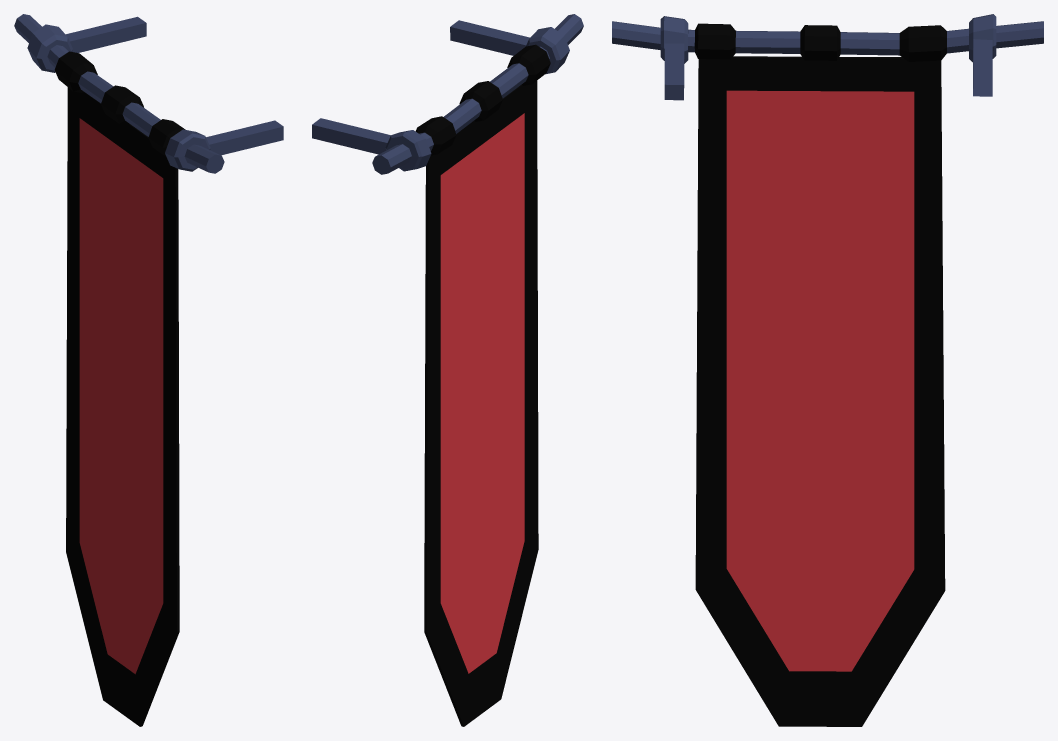
Rendered from Banner_Wall_01.fbx.
3 views of the same model, side by side, from view 1: azimuth 30°, elevation 25°; view 2: azimuth 150°, elevation 25°; view 3: azimuth 270°, elevation 25° (orthographic). The views are drawn at different scales.
Visible parts, largest first — view 1: Banner_Wall_01; view 2: Banner_Wall_01; view 3: Banner_Wall_01.
Boxes of the visible parts, x1,y1,x2,y2 form: Banner_Wall_01: (14, 14, 283, 726); Banner_Wall_01: (312, 14, 583, 726); Banner_Wall_01: (612, 14, 1043, 726).
Bounding box in the file's own units: 209 × 1149 × 632.
